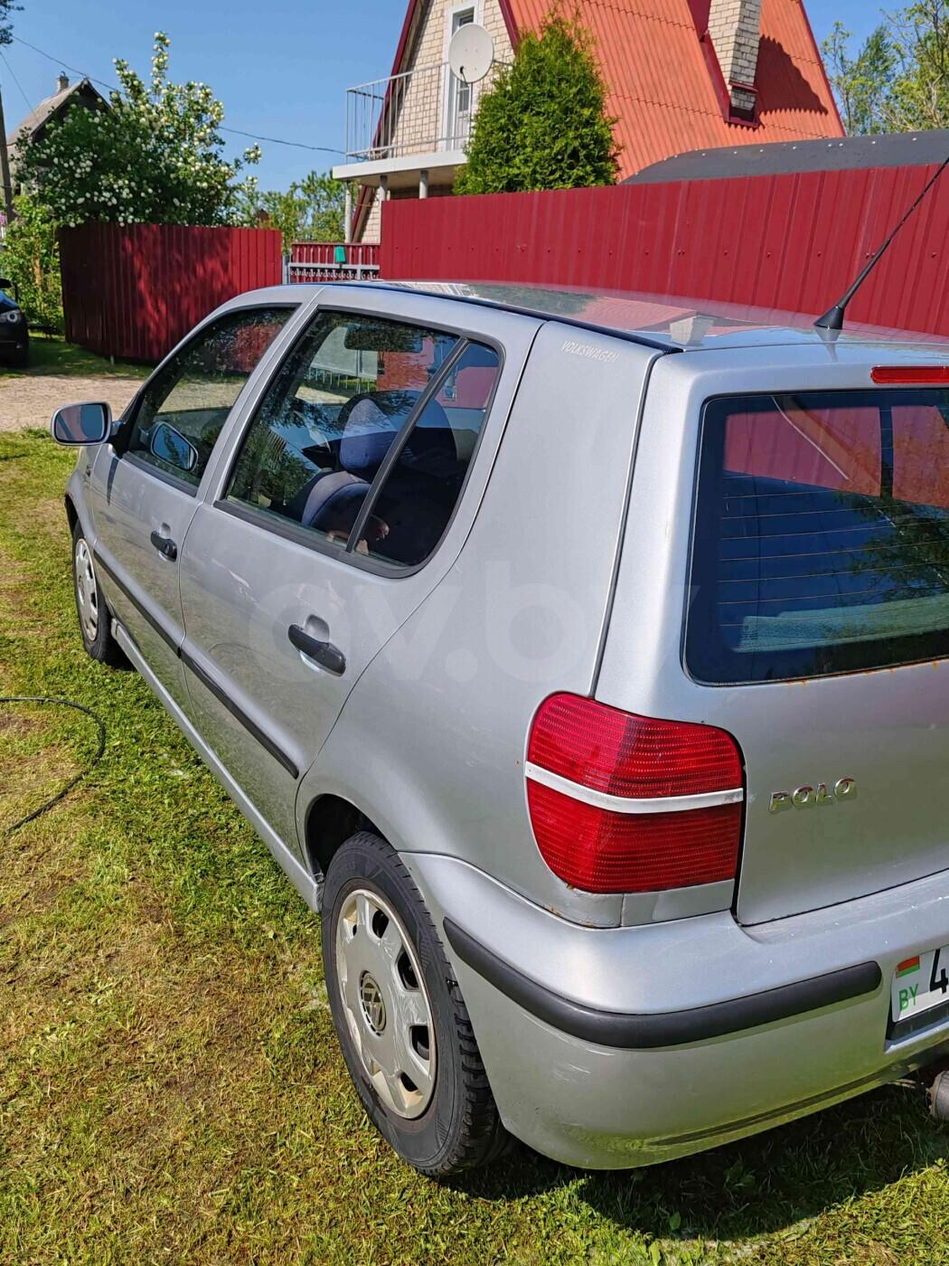Polo_2000-2002: (52, 265, 949, 1204)
